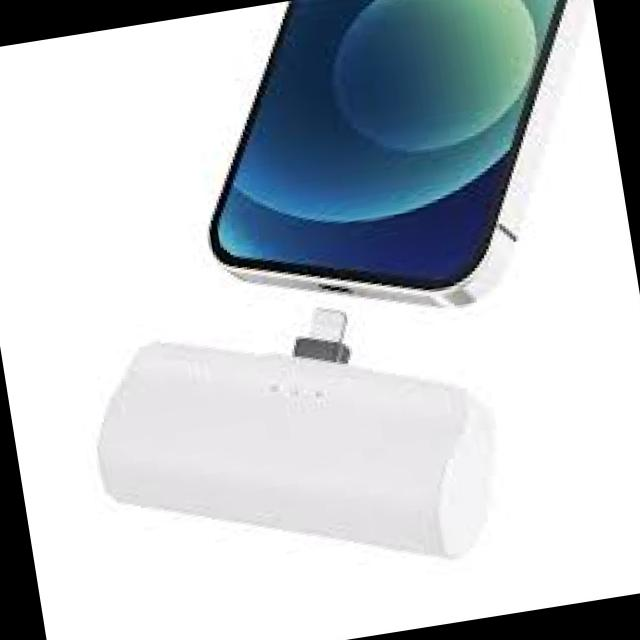power_bank: (70, 282, 516, 618)
